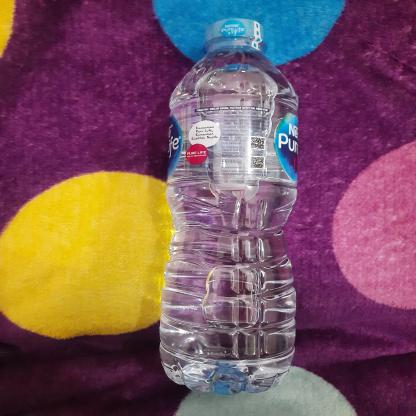plastic: (157, 13, 301, 398)
